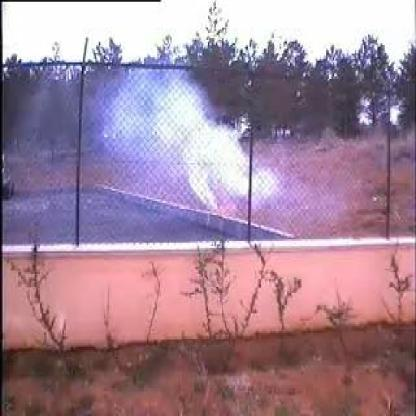-: (85, 62, 274, 240)
